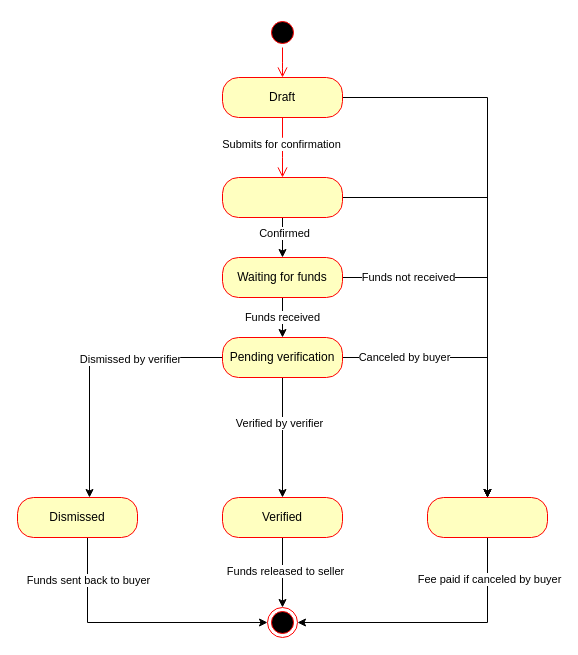
Some shapes in this 578 by 655 pixel diagram are drawn without their labels. The centre of each missing label's shape, as x and y in pixels:
"Canceled" belongs at [487,517].
"Pending confirmation" belongs at [282,197].
